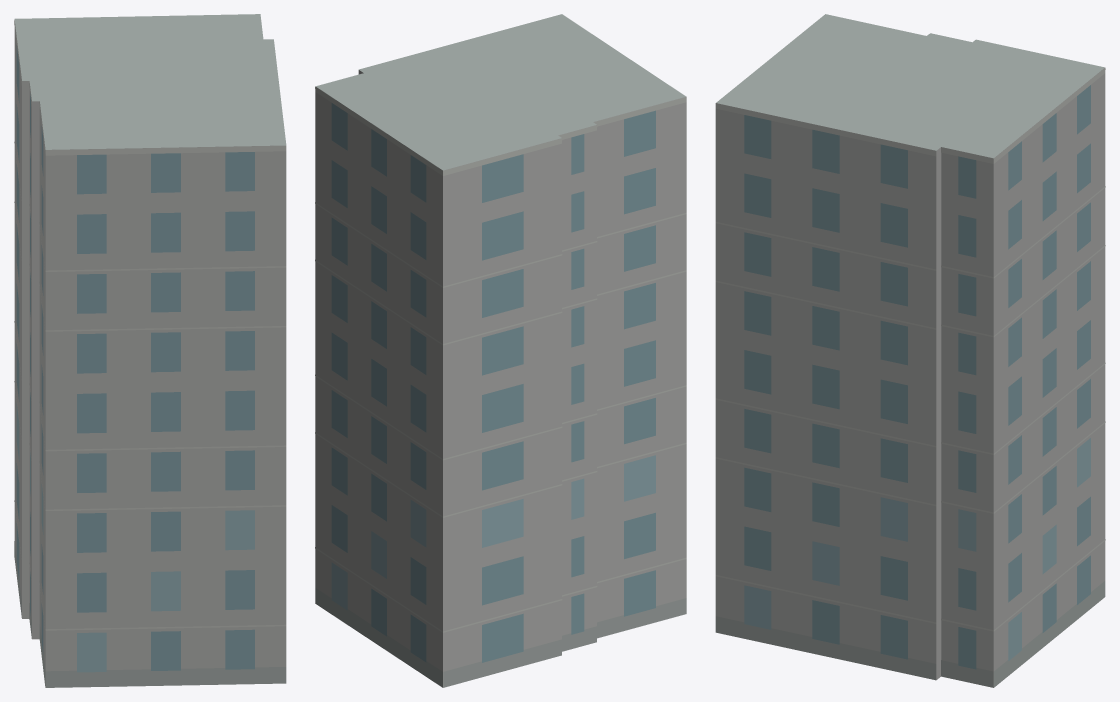
Rendered from survey-upis-32947493.glb.
3 renders of one model, left to right at view 1: azimuth 30°, elevation 25°; view 2: azimuth 150°, elevation 25°; view 3: azimuth 270°, elevation 25°, orthographic. The views are drawn at different scales.
Parts seen in each view (by area): view 1: survey-upis-32947493.tmp; view 2: survey-upis-32947493.tmp; view 3: survey-upis-32947493.tmp.
Part boxes in pixels (x1,y1,x2,y2): survey-upis-32947493.tmp: (14, 14, 286, 687); survey-upis-32947493.tmp: (315, 14, 686, 687); survey-upis-32947493.tmp: (715, 14, 1105, 687).
Size of the model in its own units: 13.35 by 22.8 by 15.22.
